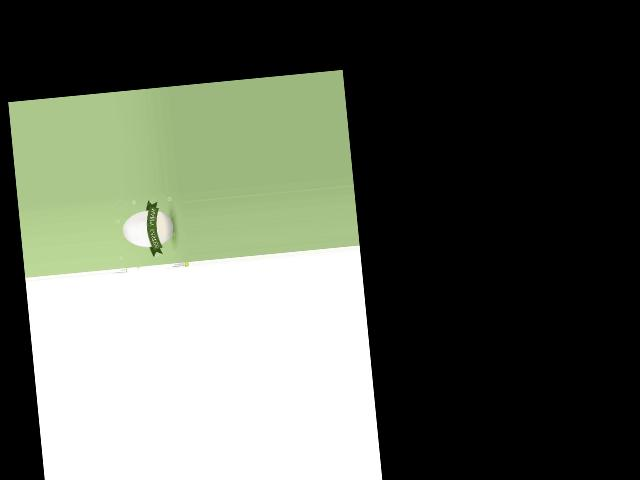egg: (121, 209, 175, 250)
